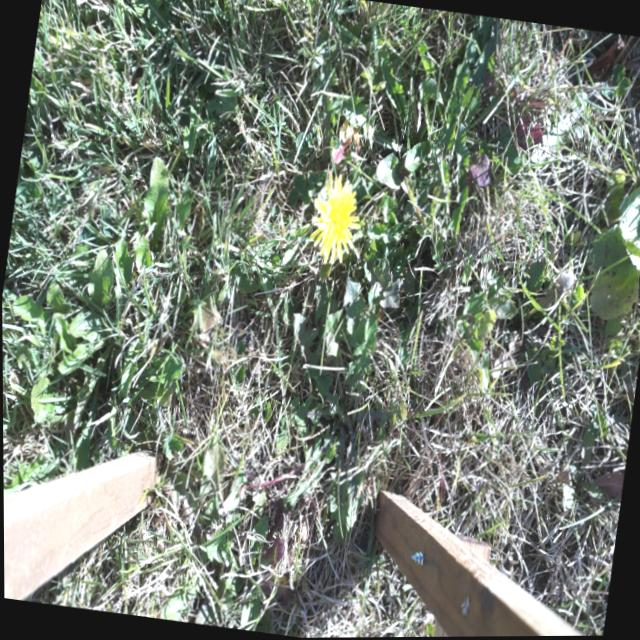flower: (306, 171, 367, 263)
